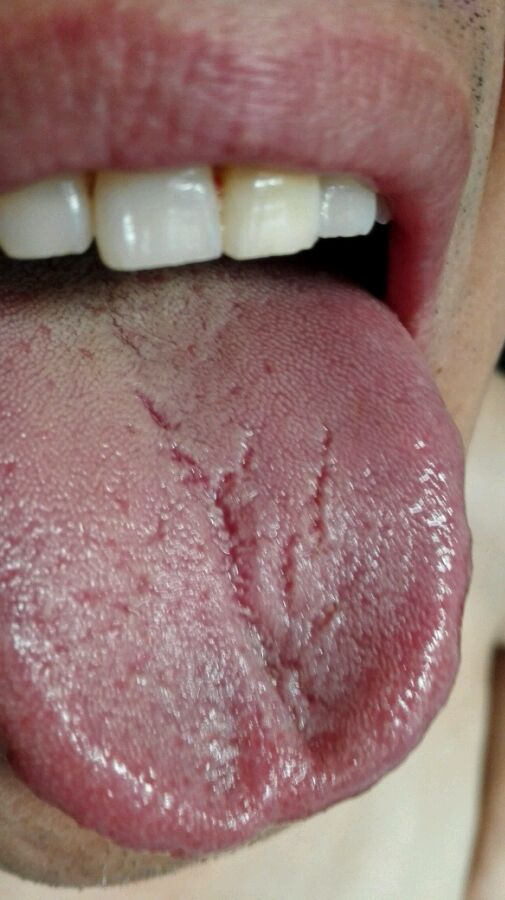baitaishe: (1, 271, 472, 854)
hongshe: (2, 272, 472, 854)
liewenshe: (111, 321, 344, 737)
